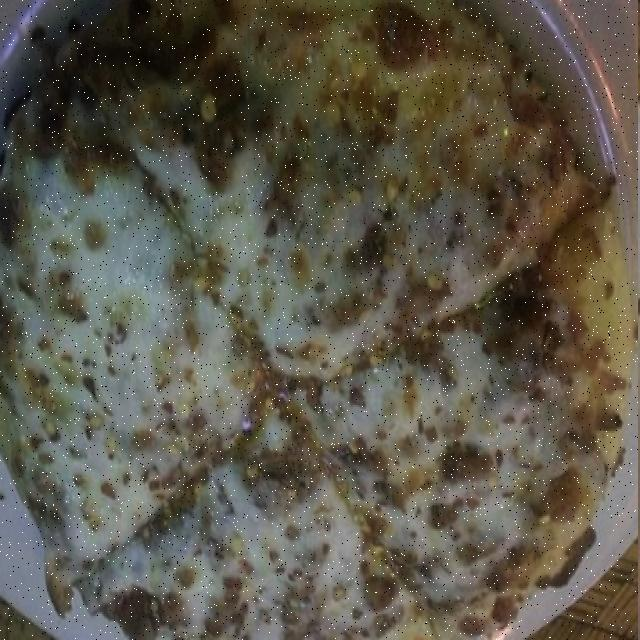Pizza: (0, 0, 638, 640)
